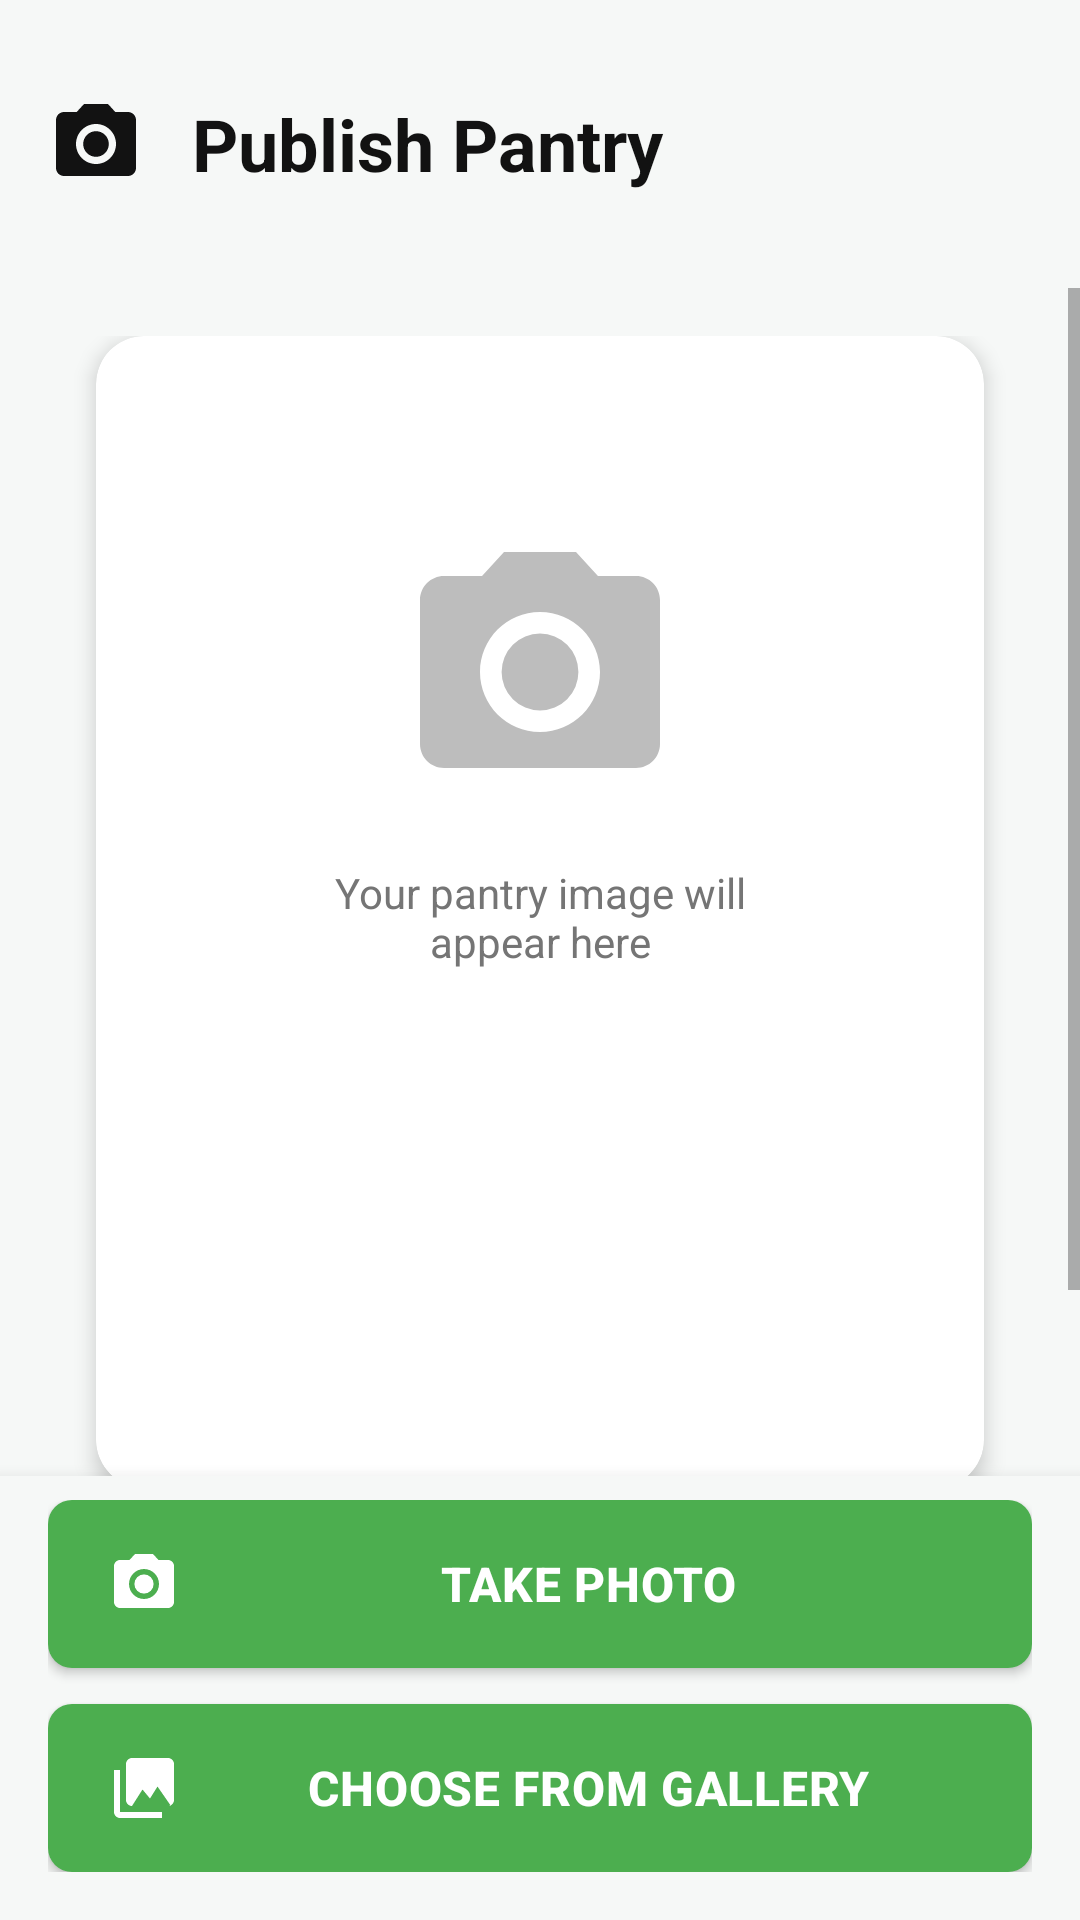

Screen size 1080×1920. Icon name, then its box in pixels as box=[x1, y1, x2, y2]:
Camera icon: box=[56, 104, 136, 176]
Camera placeholder: box=[420, 552, 660, 768]
